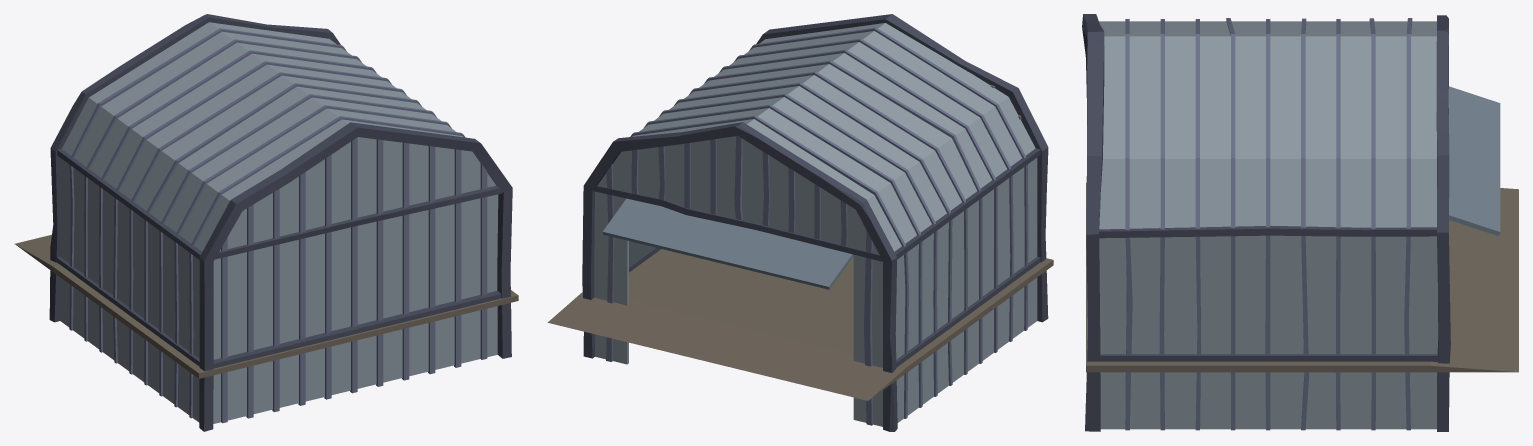
The model's file is 20C_hangar.fbx.
3 views of the same model, side by side, from view 1: azimuth 30°, elevation 25°; view 2: azimuth 150°, elevation 25°; view 3: azimuth 270°, elevation 25° (orthographic). The views are drawn at different scales.
Parts seen in each view (by area): view 1: 20C_hangar; view 2: 20C_hangar; view 3: 20C_hangar.
Part boxes in pixels (x1,y1,x2,y2): 20C_hangar: (14, 14, 518, 431); 20C_hangar: (547, 14, 1053, 431); 20C_hangar: (1082, 14, 1518, 431).
Bounding box in the file's own units: 180 × 145 × 182.
